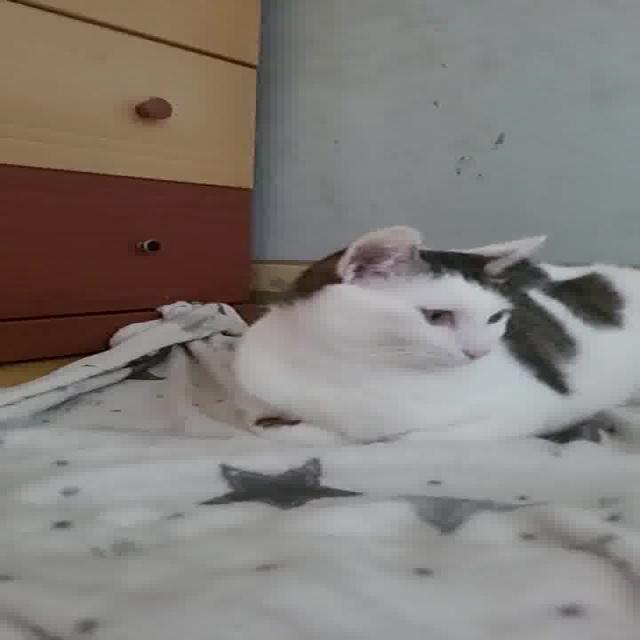cat: (233, 225, 640, 447)
